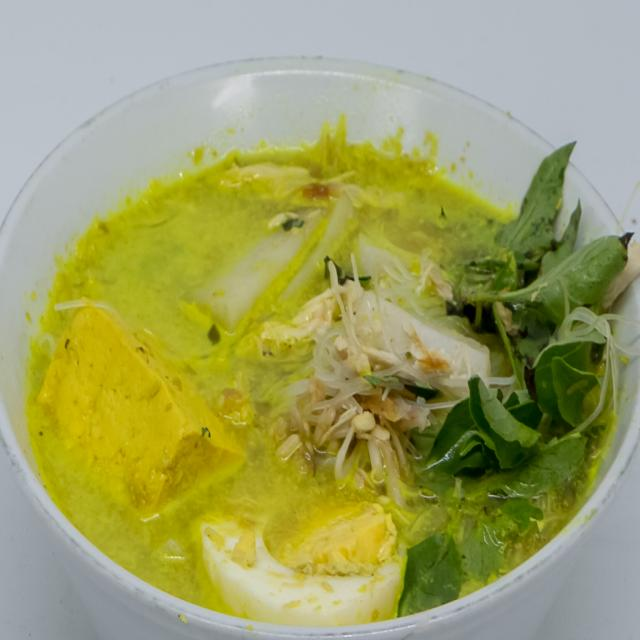Laksa-Bogor: (28, 92, 630, 628)
